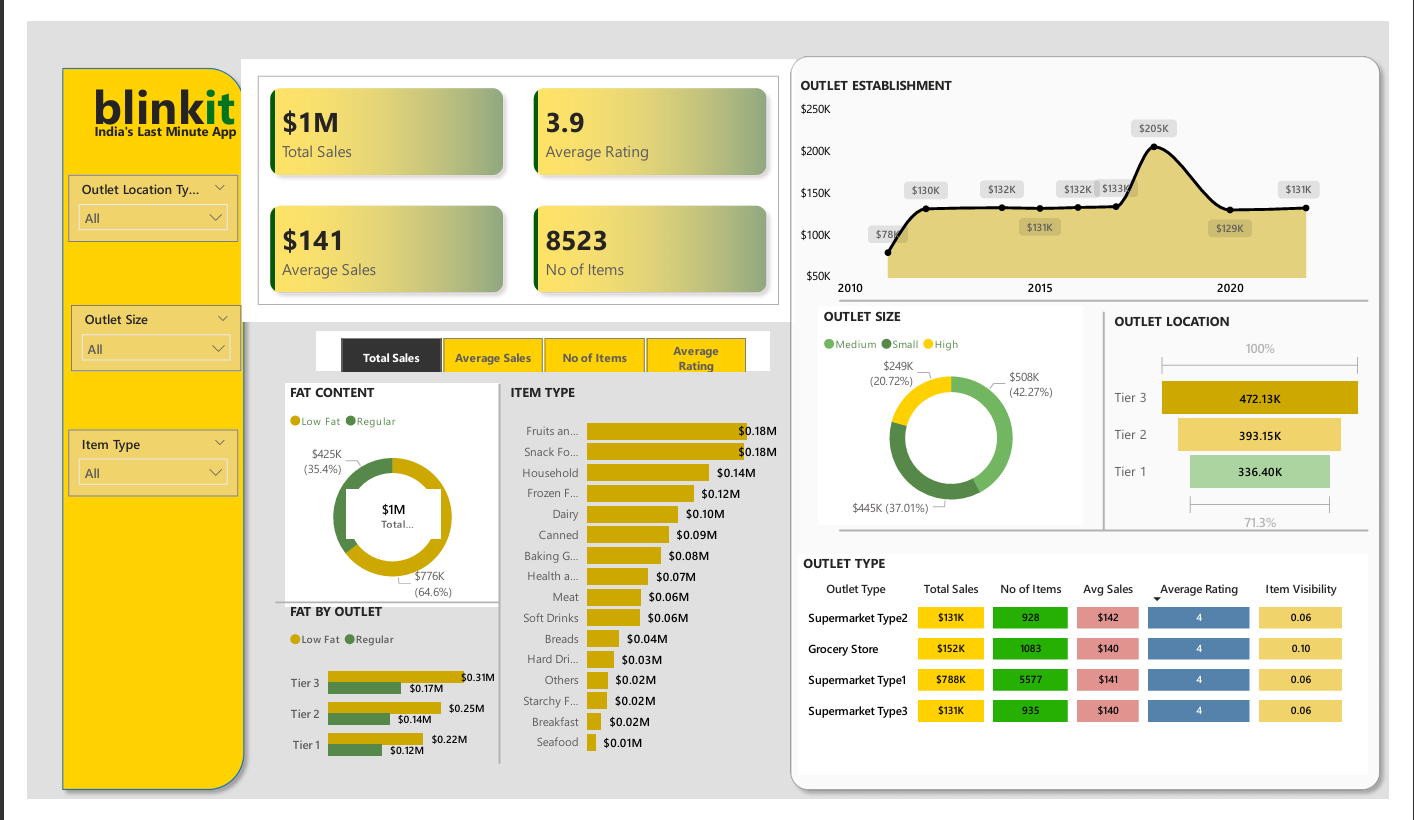

This screenshot's page, from the dashboard's own definition file:
{"tool":"powerbi","page":{"name":"Page 1","canvas":[1400,800],"ordinal":0},"visuals":[{"type":"shape","box":[26.9,38.6,205,761.1],"z":0},{"type":"textbox","box":[50.4,48.7,181.5,79],"z":1000},{"type":"textbox","box":[63.8,99.1,168,28.6],"z":2000},{"type":"cardVisual","fields":{"Data":["BlinkIT Grocery Data.Total Sales","BlinkIT Grocery Data.Average Rating","BlinkIT Grocery Data.Average Sales","BlinkIT Grocery Data.No of Items"]},"box":[220.1,38.6,569.6,270.5],"z":3000},{"type":"shape","box":[776.2,26.9,623.3,772.9],"z":4000},{"type":"slicer","fields":{"Values":["Metrics.Metrics"]},"box":[297.4,319.2,465.4,40.3],"z":5000},{"type":"donutChart","title":"FAT CONTENT","fields":{"Y":["BlinkIT Grocery Data.Total Sales"],"Category":["BlinkIT Grocery Data.Item Fat Content"]},"box":[265.5,373,220.1,230.2],"z":6000},{"type":"cardVisual","fields":{"Data":["BlinkIT Grocery Data.Total Sales"]},"box":[322.6,477.2,107.5,60.5],"z":7000},{"type":"clusteredBarChart","title":"FAT BY OUTLET","fields":{"Y":["BlinkIT Grocery Data.Total Sales"],"Category":["BlinkIT Grocery Data.Outlet Location Type"],"Series":["BlinkIT Grocery Data.Item Fat Content"]},"box":[265.5,598.1,220.1,178.1],"z":8000},{"type":"shape","box":[255.4,591.4,230.2,13.4],"z":9000},{"type":"shape","box":[478.8,373,13.4,391.5],"z":10000},{"type":"barChart","title":"ITEM TYPE","fields":{"Y":["BlinkIT Grocery Data.Total Sales"],"Category":["BlinkIT Grocery Data.Item Type"]},"box":[492.3,373,283.9,391.5],"z":11000},{"type":"lineChart","title":"OUTLET ESTABLISHMENT","fields":{"Y":["BlinkIT Grocery Data.Total Sales"],"Category":["BlinkIT Grocery Data.Outlet Establishment Year"]},"box":[789.7,57.1,544.4,235.2],"z":12000},{"type":"donutChart","title":"OUTLET SIZE","fields":{"Y":["BlinkIT Grocery Data.Total Sales"],"Category":["BlinkIT Grocery Data.Outlet Size"]},"box":[814.3,293.6,271.9,225.7],"z":13000},{"type":"shape","box":[1100.5,299.1,13.4,225.1],"z":13001},{"type":"shape","box":[835,280.6,544.4,13.4],"z":13002},{"type":"funnel","title":"OUTLET LOCATION","fields":{"Y":["Sum(BlinkIT Grocery Data.Sales)"],"Category":["BlinkIT Grocery Data.Outlet Location Type"]},"box":[1113.3,300.4,265.1,231.1],"z":13003},{"type":"shape","box":[835,517.5,544.4,13.4],"z":13004},{"type":"pivotTable","title":"OUTLET TYPE","fields":{"Rows":["BlinkIT Grocery Data.Outlet Type"],"Values":["BlinkIT Grocery Data.Total Sales","BlinkIT Grocery Data.No of Items","BlinkIT Grocery Data.Average Sales","BlinkIT Grocery Data.Average Rating","Avg(BlinkIT Grocery Data.Item Visibility)"]},"box":[793,549.4,586.4,226.8],"z":13005},{"type":"slicer","fields":{"Values":["BlinkIT Grocery Data.Outlet Location Type"]},"box":[42,157.9,174.7,68.9],"z":13006},{"type":"slicer","fields":{"Values":["BlinkIT Grocery Data.Outlet Size"]},"box":[45.4,292.3,174.7,67.2],"z":13007},{"type":"slicer","fields":{"Values":["BlinkIT Grocery Data.Item Type"]},"box":[42,420,174.7,68.9],"z":13008}]}

Visuals, with their boxes in screenshot pixels (x1, y1, x2, y2), scaled from the page's 1400x800 canvas onto the 1414x820 screenshot:
shape: l=27, t=40, r=234, b=819
textbox: l=51, t=50, r=234, b=131
textbox: l=64, t=102, r=234, b=131
cardVisual - BlinkIT Grocery Data.Total Sales x BlinkIT Grocery Data.Average Rating: l=222, t=40, r=798, b=317
shape: l=784, t=28, r=1413, b=819
slicer - Metrics.Metrics: l=300, t=327, r=770, b=368
"FAT CONTENT" donutChart: l=268, t=382, r=490, b=618
cardVisual - BlinkIT Grocery Data.Total Sales: l=326, t=489, r=434, b=551
"FAT BY OUTLET" clusteredBarChart: l=268, t=613, r=490, b=796
shape: l=258, t=606, r=490, b=620
shape: l=484, t=382, r=497, b=784
"ITEM TYPE" barChart: l=497, t=382, r=784, b=784
"OUTLET ESTABLISHMENT" lineChart: l=798, t=59, r=1347, b=300
"OUTLET SIZE" donutChart: l=822, t=301, r=1097, b=532
shape: l=1112, t=307, r=1125, b=537
shape: l=843, t=288, r=1393, b=301
"OUTLET LOCATION" funnel: l=1124, t=308, r=1392, b=545
shape: l=843, t=530, r=1393, b=544
"OUTLET TYPE" pivotTable: l=801, t=563, r=1393, b=796
slicer - BlinkIT Grocery Data.Outlet Location Type: l=42, t=162, r=219, b=232
slicer - BlinkIT Grocery Data.Outlet Size: l=46, t=300, r=222, b=368
slicer - BlinkIT Grocery Data.Item Type: l=42, t=430, r=219, b=501
